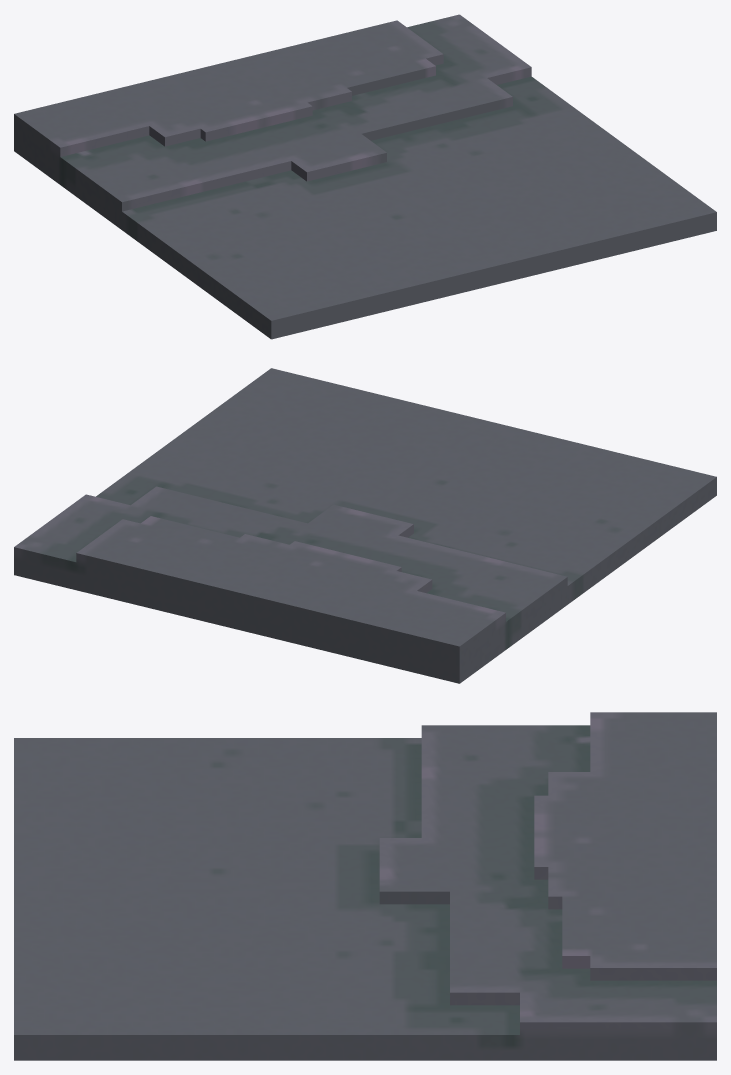
Rendered from GroundTile_4.fbx.
3 views of the same model, one above another, from view 1: azimuth 30°, elevation 25°; view 2: azimuth 150°, elevation 25°; view 3: azimuth 270°, elevation 25° (orthographic). The views are drawn at different scales.
Parts seen in each view (by area): view 1: GroundTile_4; view 2: GroundTile_4; view 3: GroundTile_4.
Part boxes in pixels (x1=…): GroundTile_4: x1=14, y1=14, x2=716, y2=339; GroundTile_4: x1=14, y1=368, x2=716, y2=683; GroundTile_4: x1=14, y1=712, x2=716, y2=1060.
Size of the model in its own units: 250 by 20 by 250.
